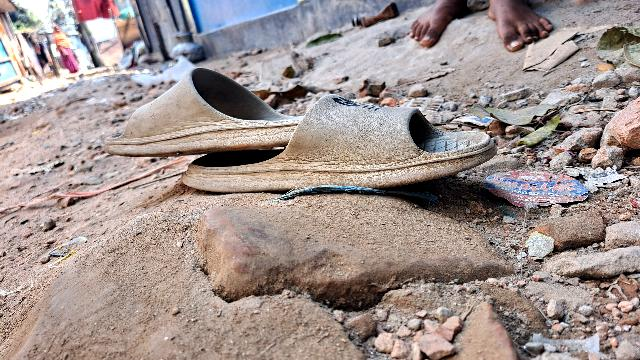sandal: (168, 96, 491, 195), (113, 57, 352, 154)
